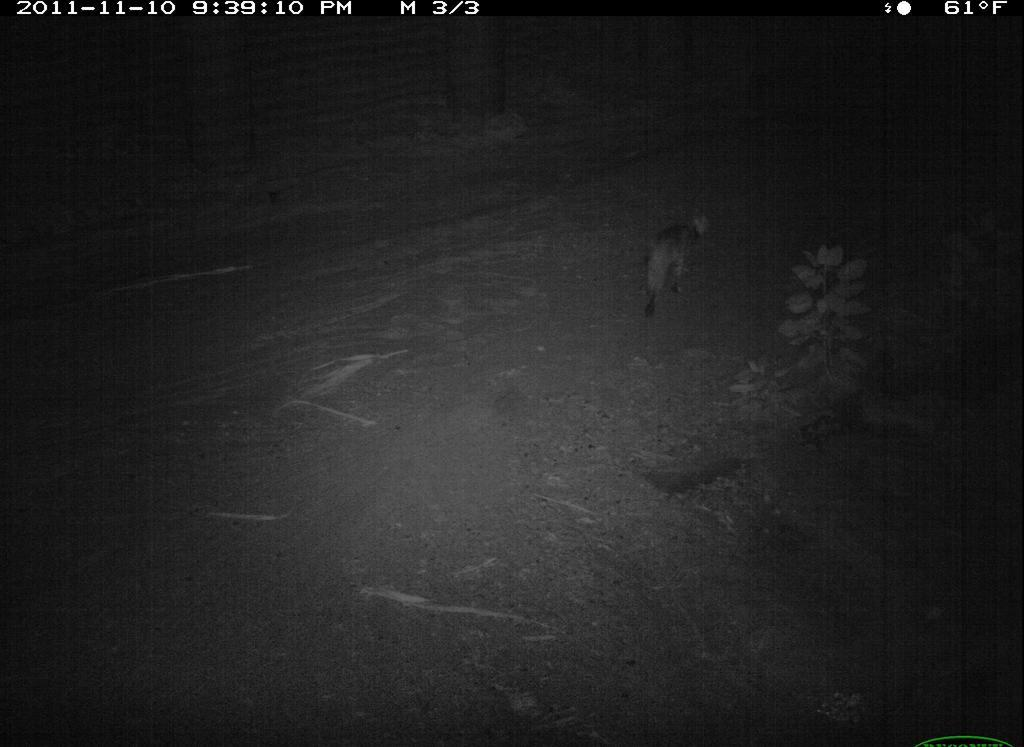bobcat: (631, 210, 723, 325)
